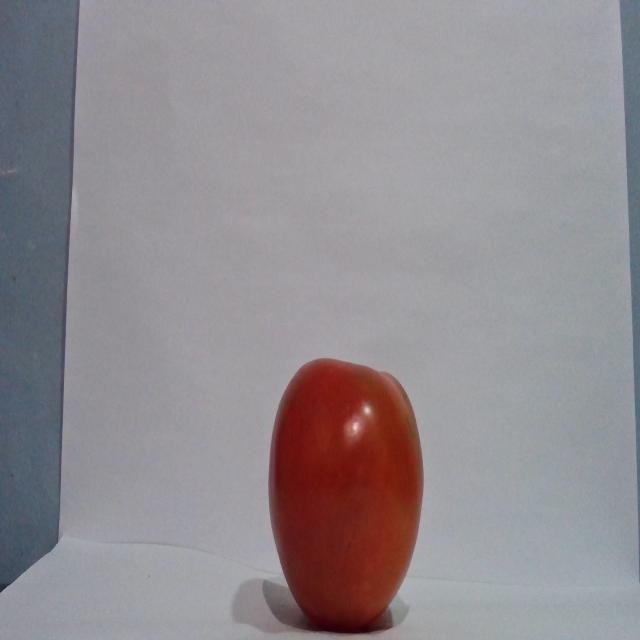Red: (266, 356, 424, 630)
